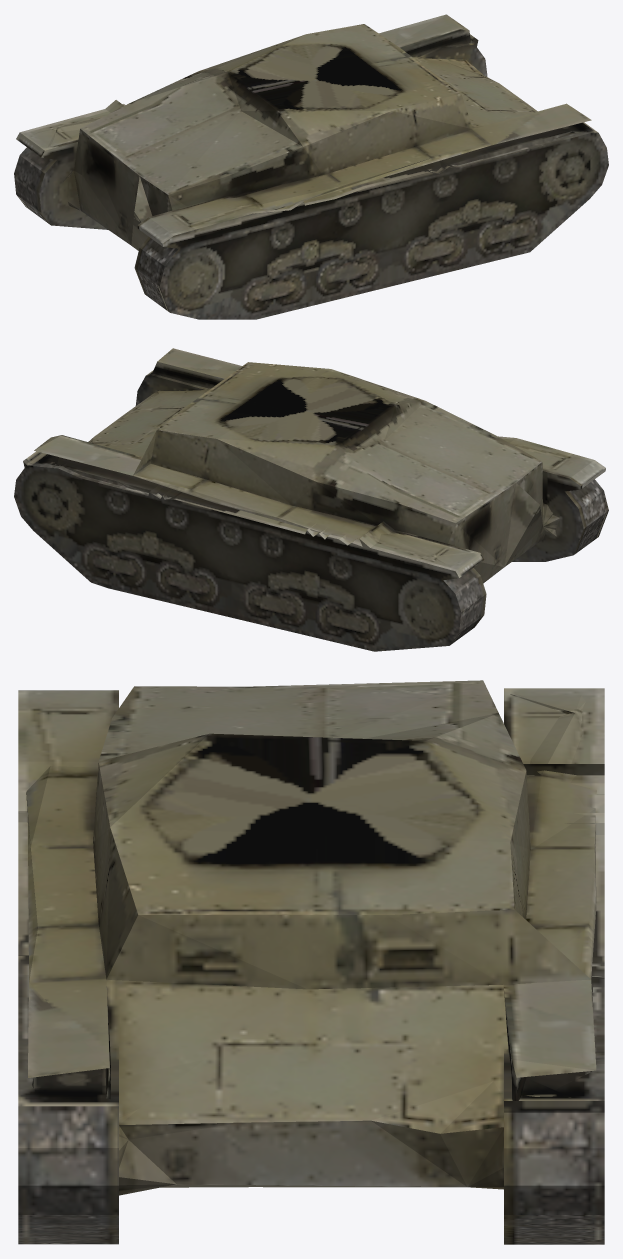
The model's file is hull.obj.
3 views of the same model, one above another, from view 1: azimuth 30°, elevation 25°; view 2: azimuth 150°, elevation 25°; view 3: azimuth 270°, elevation 25° (orthographic). The views are drawn at different scales.
Bounding box in the file's own units: 1.01 × 0.3357 × 0.57.
1 material, 1 textured.
